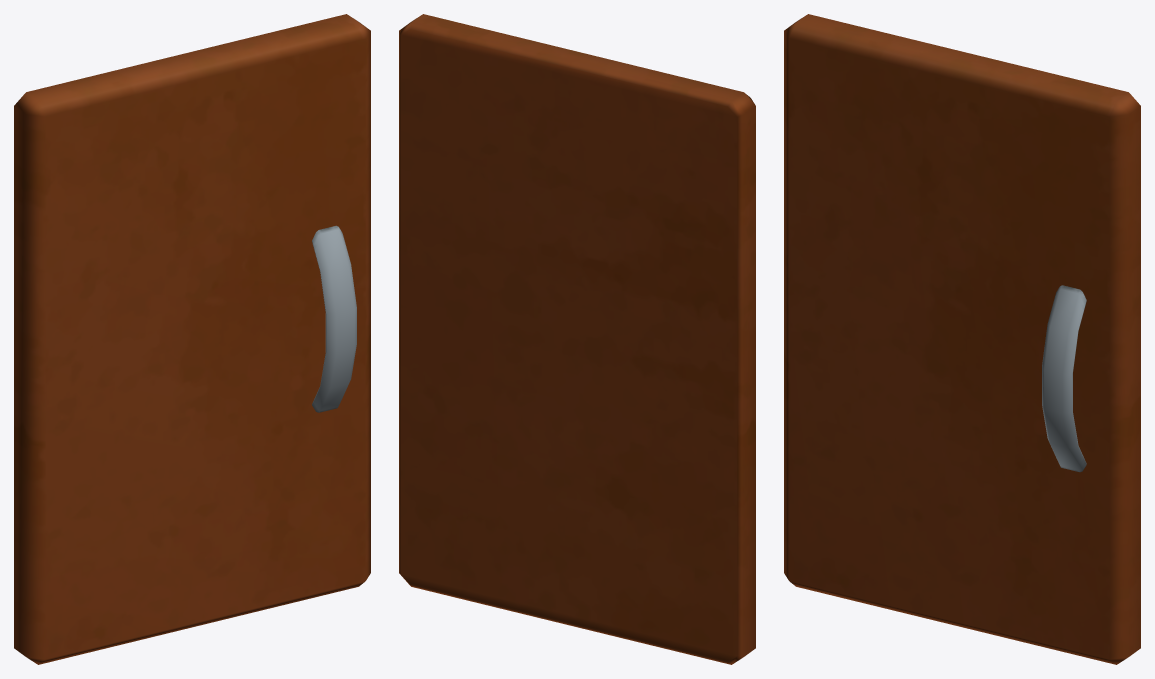
Rendered from SingleDoor.fbx.
3 renders of one model, left to right at view 1: azimuth 30°, elevation 25°; view 2: azimuth 150°, elevation 25°; view 3: azimuth 330°, elevation 25°, orthographic.
Visible parts, largest first — view 1: Counter.004; view 2: Counter.004; view 3: Counter.004.
Part boxes in pixels (<box>): Counter.004: <box>14,14,370,664</box>; Counter.004: <box>399,14,755,664</box>; Counter.004: <box>784,14,1140,664</box>.
Size of the model in its own units: 38.73 by 60.57 by 7.67.
